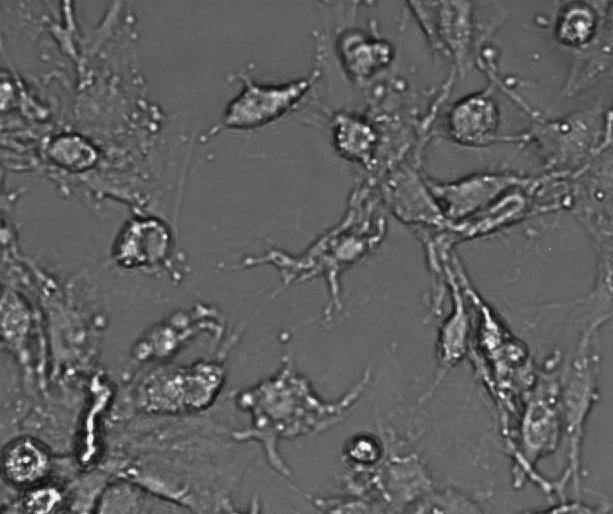Dead: (472, 290, 530, 386), (75, 369, 118, 471), (114, 207, 173, 278), (447, 89, 505, 147), (326, 110, 383, 164), (2, 431, 55, 485), (44, 132, 101, 175), (552, 2, 600, 49), (345, 40, 396, 78), (21, 481, 68, 514), (340, 431, 384, 464), (335, 24, 372, 60), (503, 335, 531, 368)
